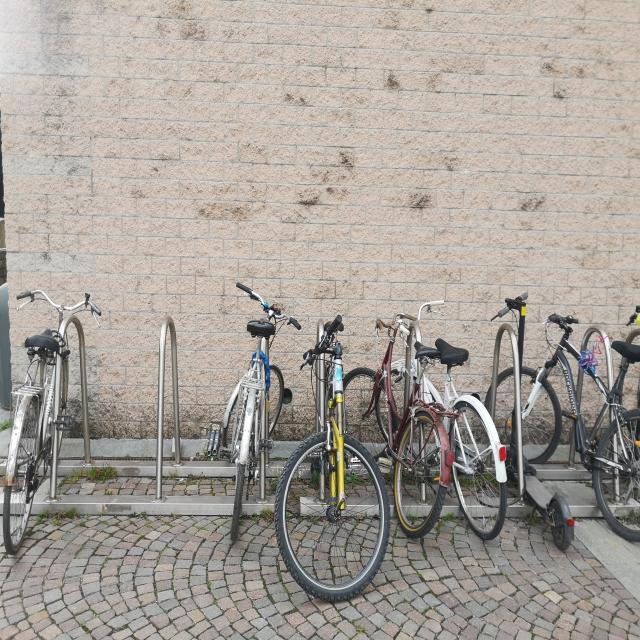Bicycle: (279, 297, 392, 609), (0, 272, 100, 587), (422, 276, 517, 544), (496, 282, 581, 563), (363, 285, 451, 548), (537, 309, 640, 528), (215, 274, 290, 524)
